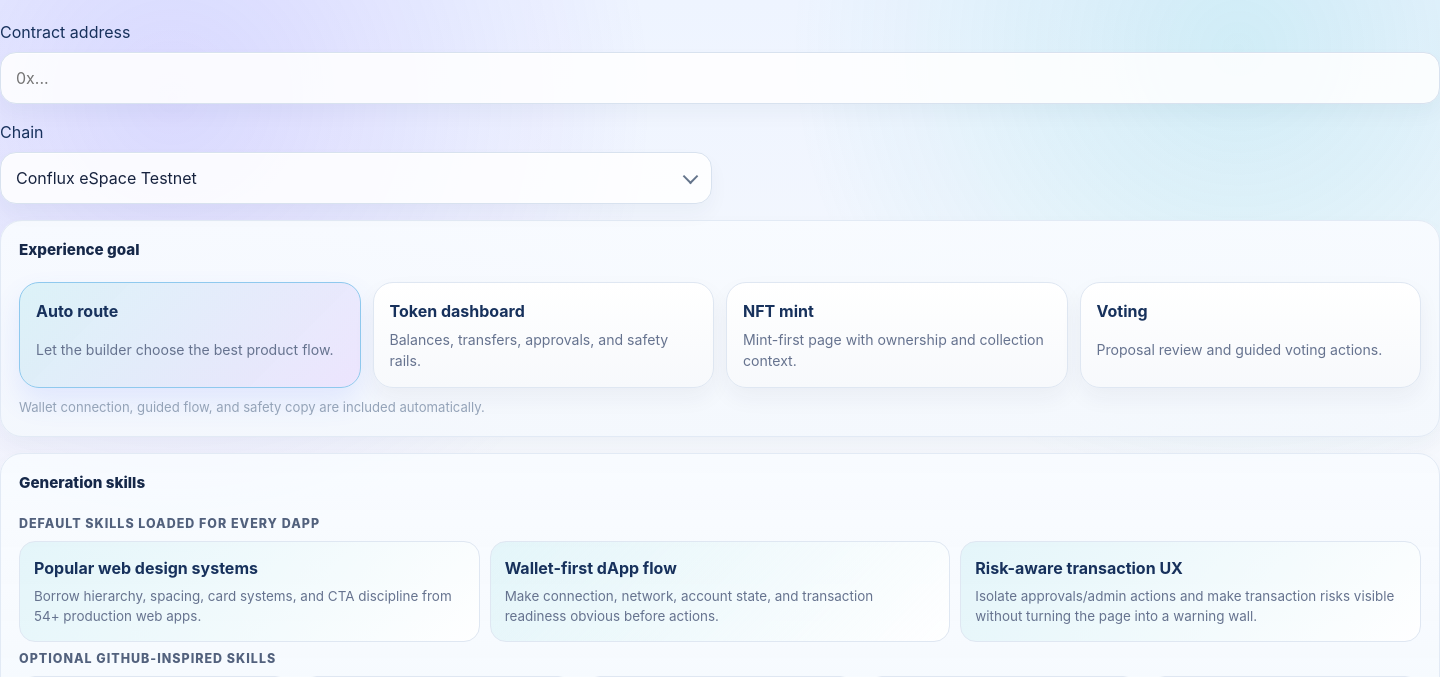
Test: BuilderForm › shows a validation hint for invalid contract address format
The image size is (1440, 677).
In the field labelled "Contract address": (720, 78) [0,52,1439,104], type "0xshort"
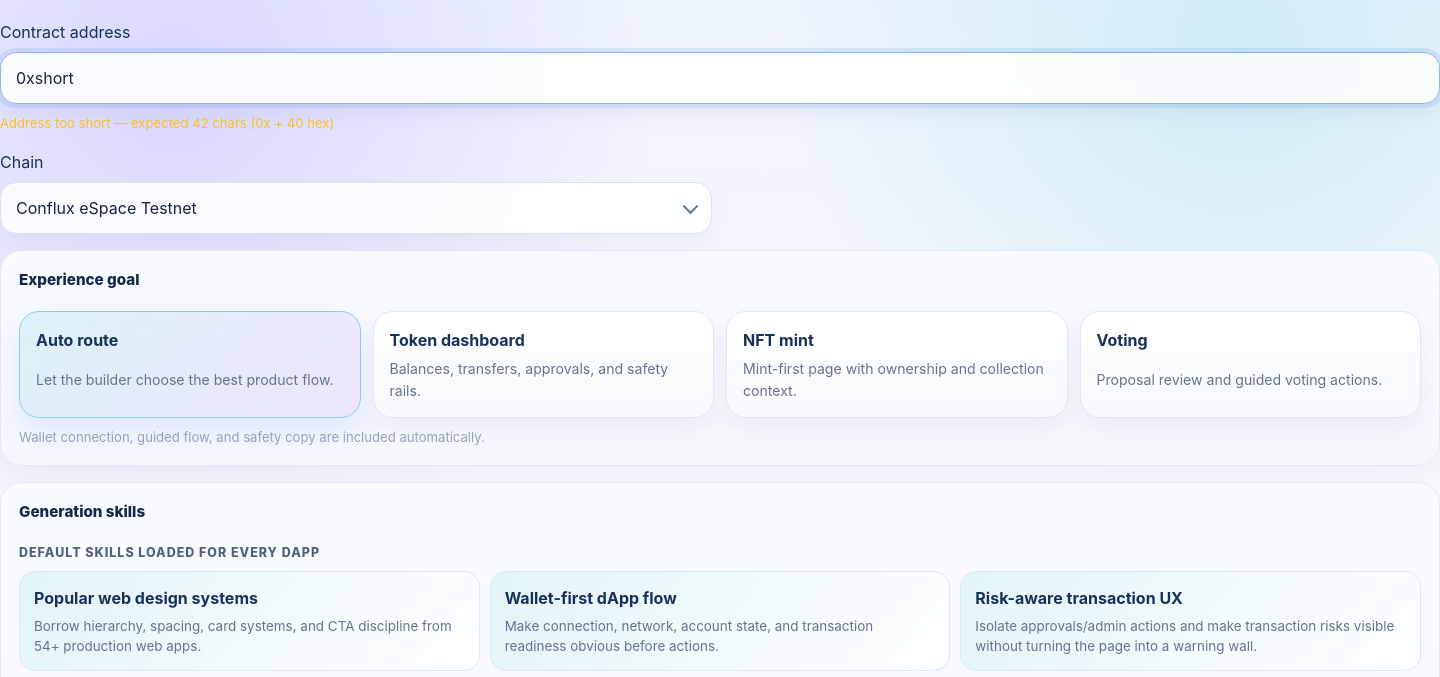
Now the text "Address too short — expected 42 chars (0x + 40 hex)" is shown, box [0,115,334,131]
Replace the text in the field labelled "Contract address" with "0x1234567890123456789012345678901234567890": (720, 78) [0,52,1439,104]
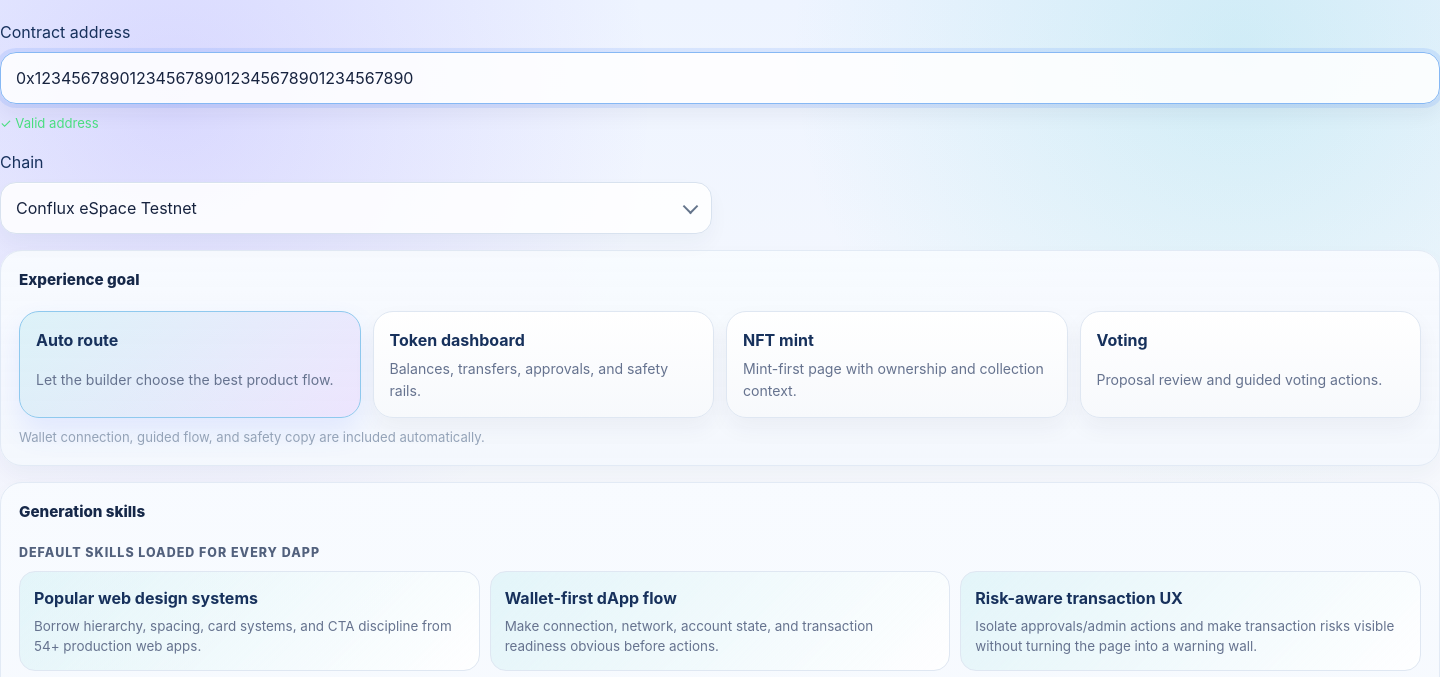
Now the text "✓ Valid address" is shown, box [0,115,99,131]
